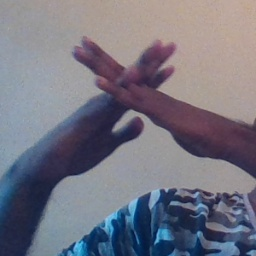W: (59, 24, 197, 150)
